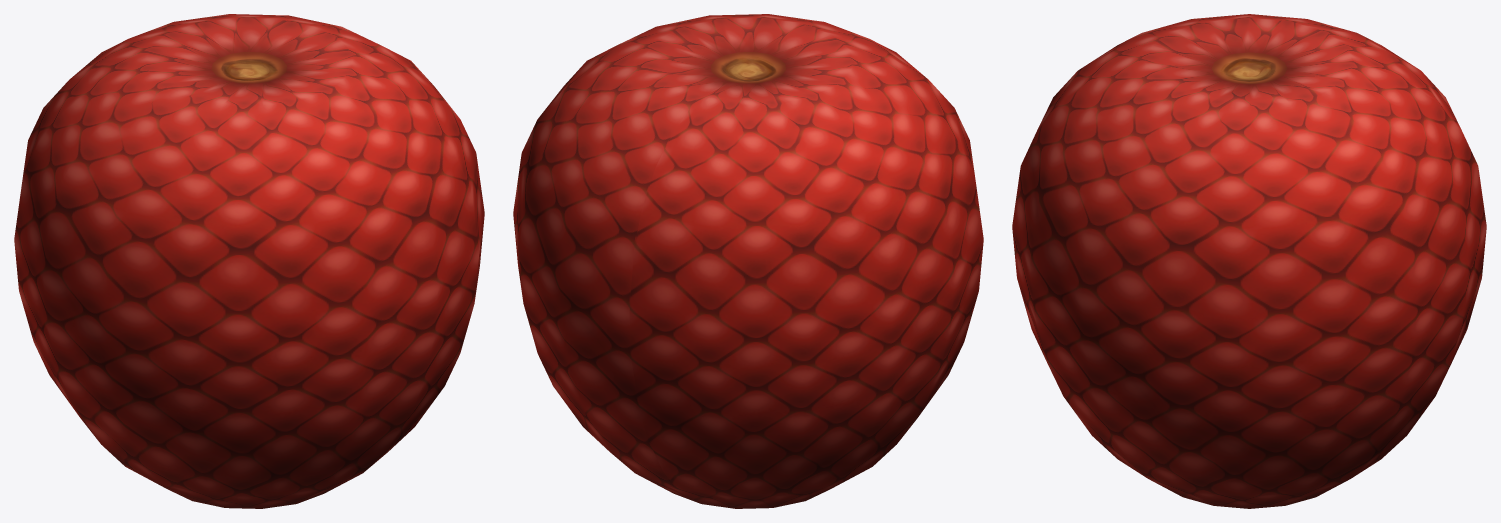
File: Lychee.fbx
3 views of the same model, side by side, from view 1: azimuth 30°, elevation 25°; view 2: azimuth 150°, elevation 25°; view 3: azimuth 270°, elevation 25° (orthographic).
Parts seen in each view (by area): view 1: Lychee; view 2: Lychee; view 3: Lychee.
Boxes of the visible parts, left/top/right/bottom form: Lychee: left=14, top=14, right=484, bottom=508; Lychee: left=513, top=14, right=983, bottom=508; Lychee: left=1012, top=14, right=1486, bottom=508.
Size of the model in its own units: 24.64 by 24.66 by 24.64.
